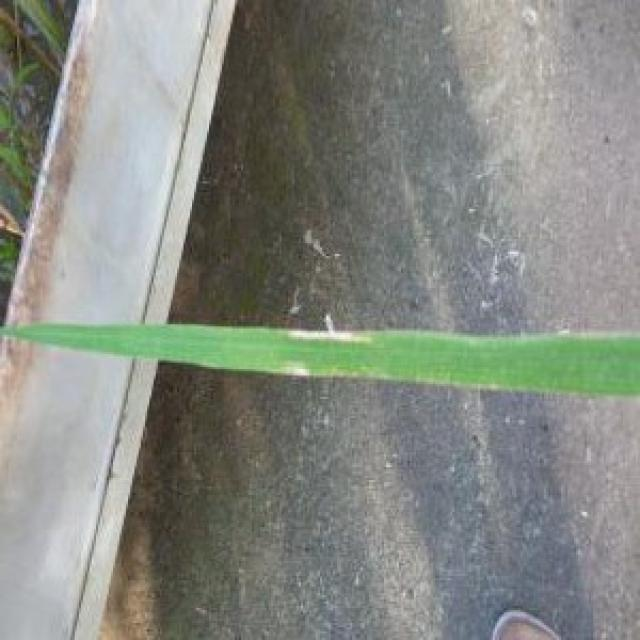leaf blight: (264, 328, 390, 378)
